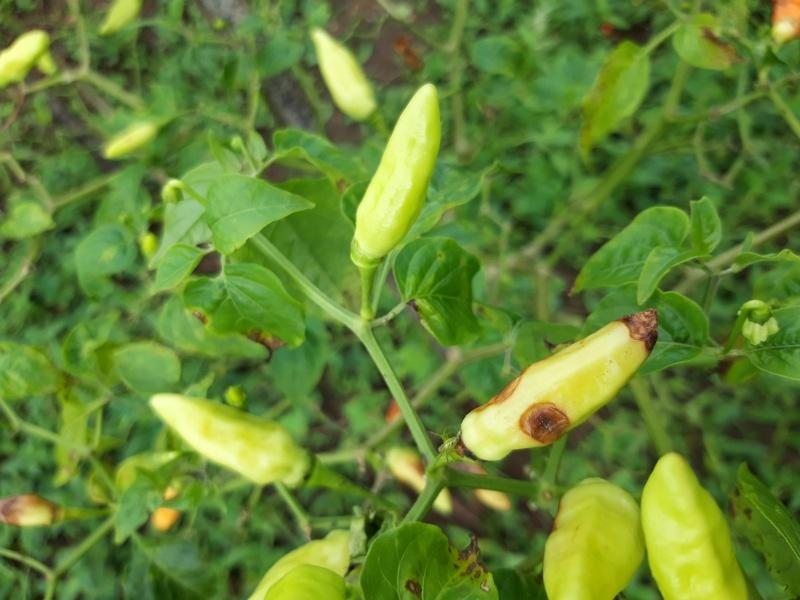antraknosa: (459, 309, 659, 463), (540, 479, 641, 600)
cabai_normal: (646, 453, 749, 600), (353, 83, 441, 255), (148, 391, 306, 484), (310, 25, 376, 121)
